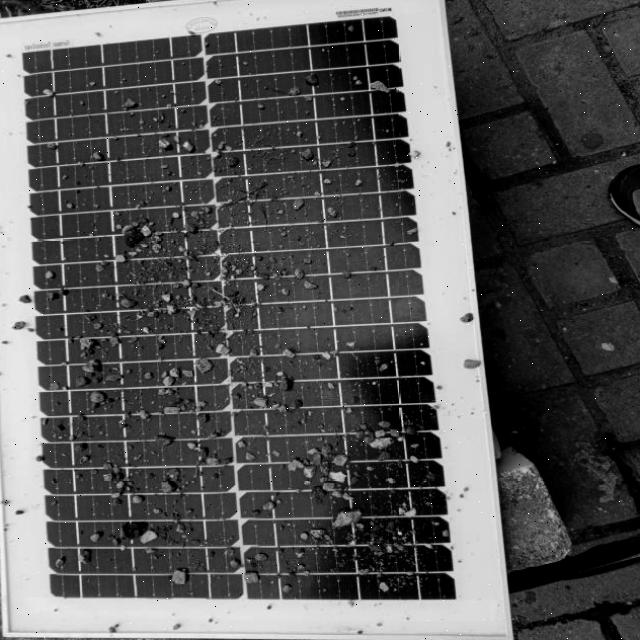Anomaly Solar Panel: (33, 7, 465, 635)
Surface Contaminant: (23, 30, 429, 612)
